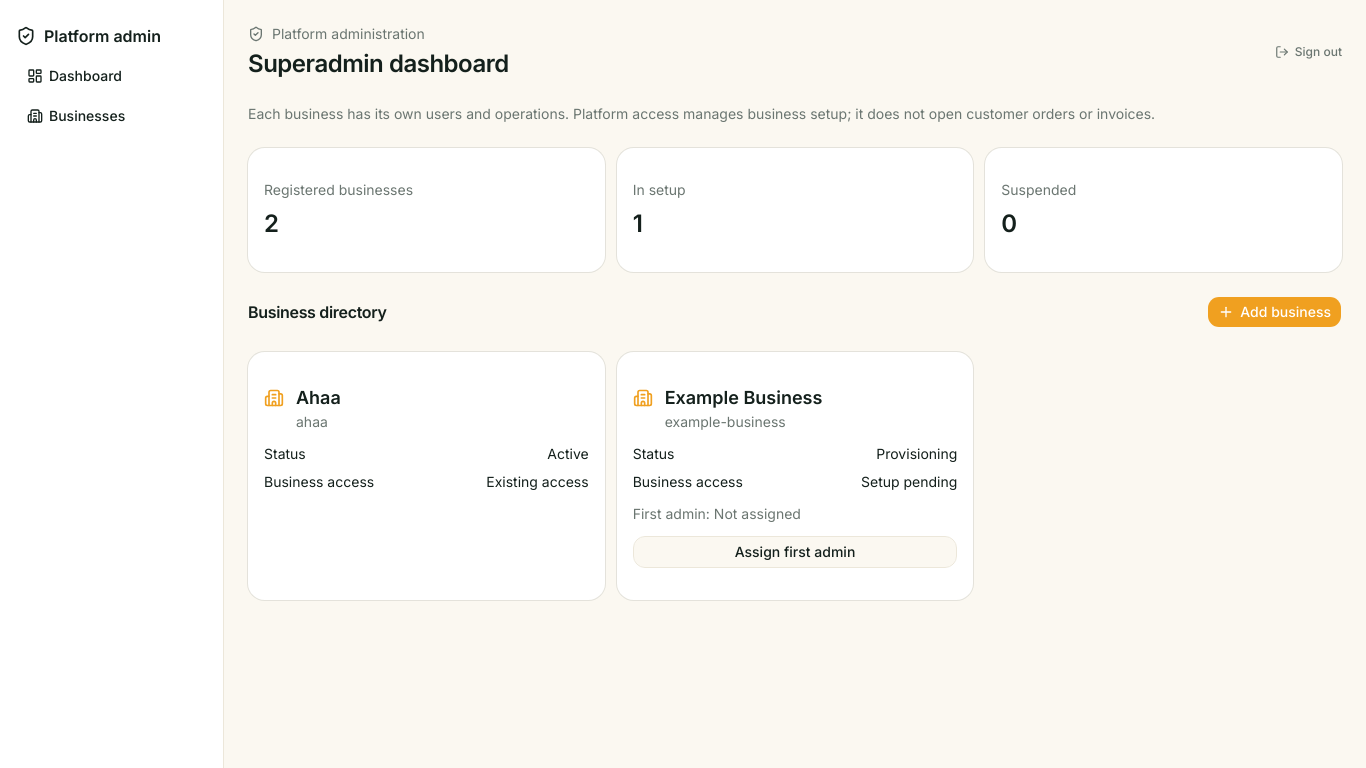
Test case: offers new-account setup only when separately enabled
Click the button "Assign first admin" at (795, 552), box [633,536,957,568]
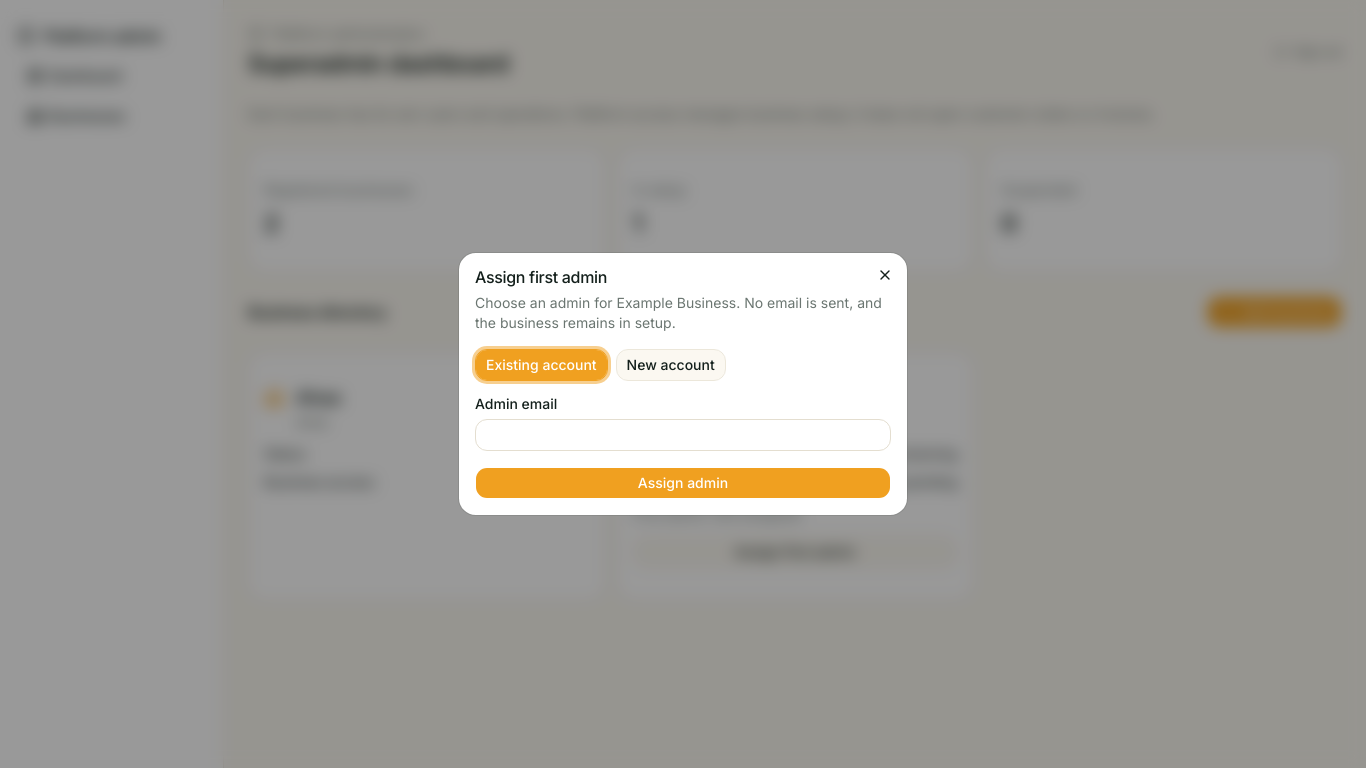
Click the button "New account" at (671, 365), box [616,349,726,381]
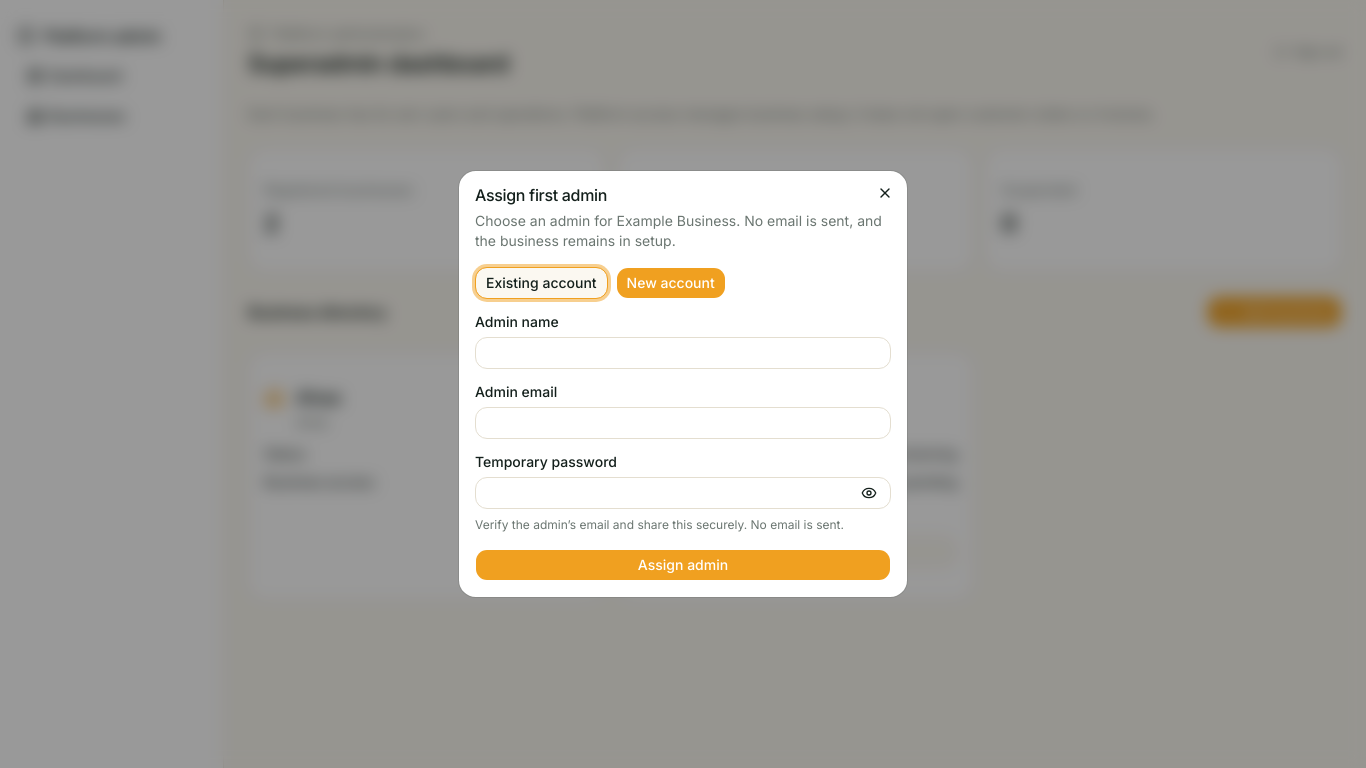
Type "Customer Admin" into the field labelled "Admin name" at (683, 353), box [475,337,891,369]
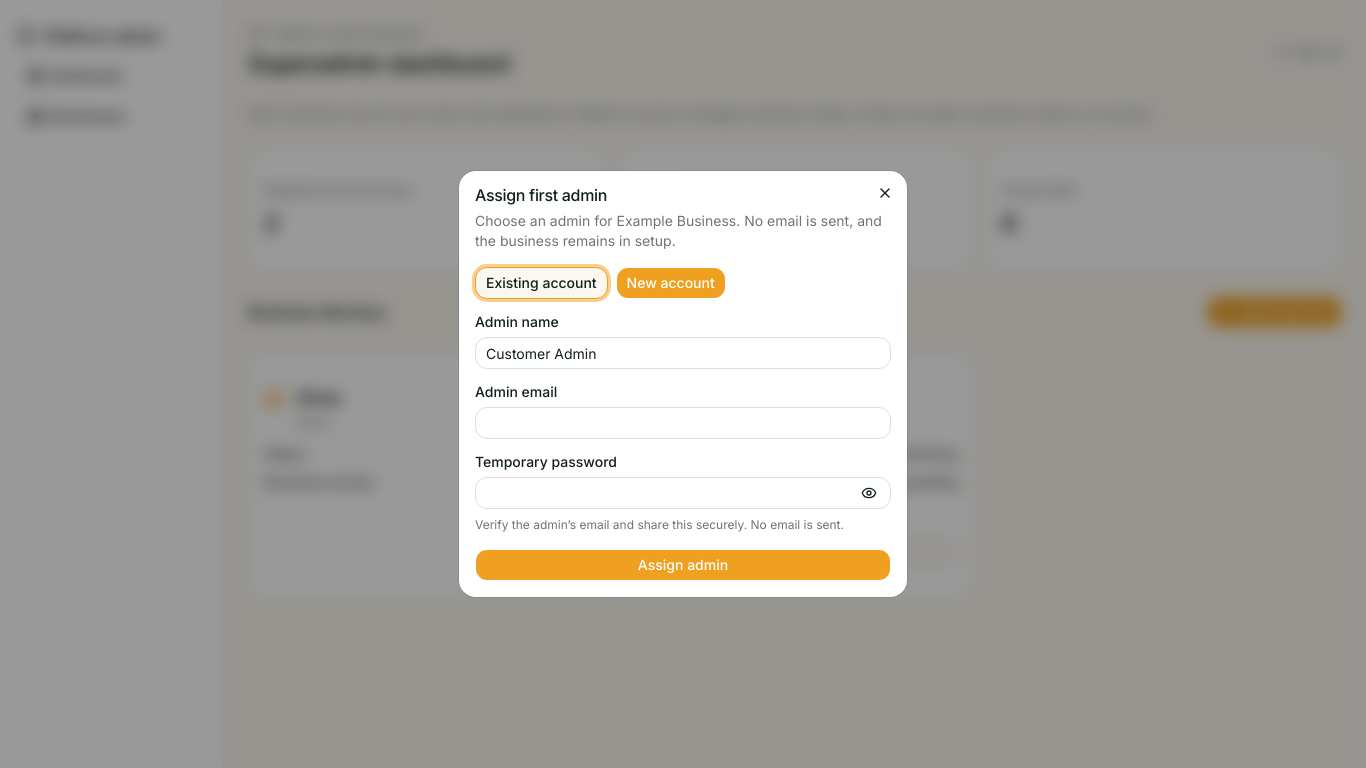
Type "owner@example.invalid" into the field labelled "Admin email" at (683, 423), box [475,407,891,439]
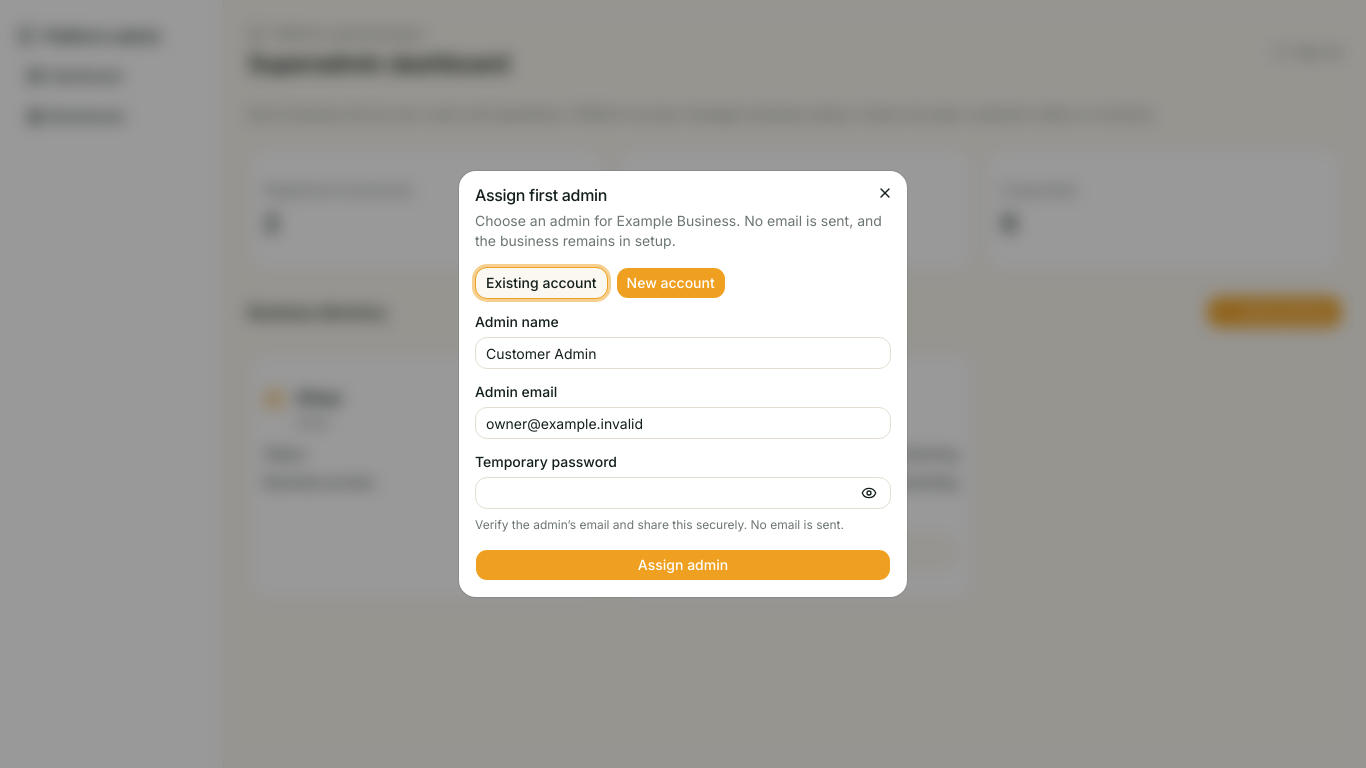
Type "temporary-pass-123" into the password field labelled "Temporary password" at (683, 493), box [475,477,891,509]
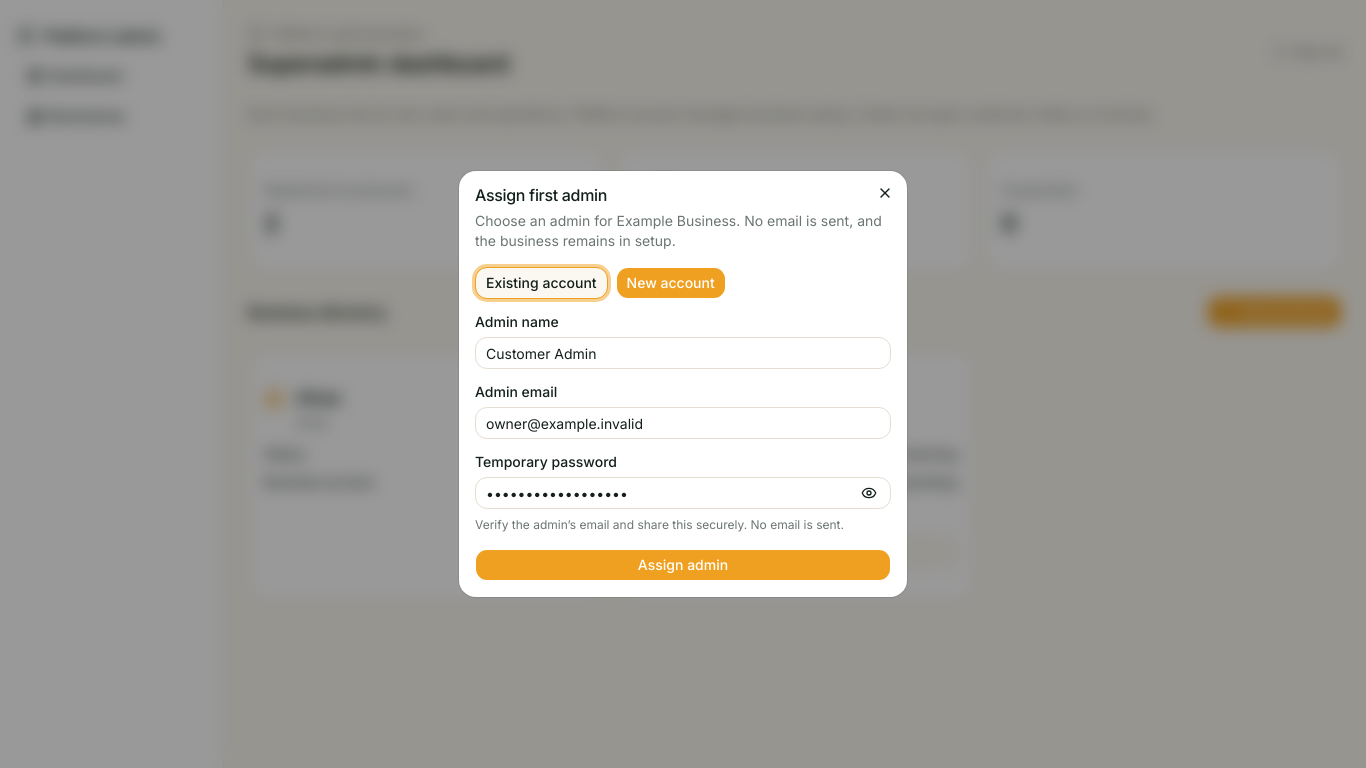
Click the button "Assign admin" at (683, 565), box [475,549,891,581]
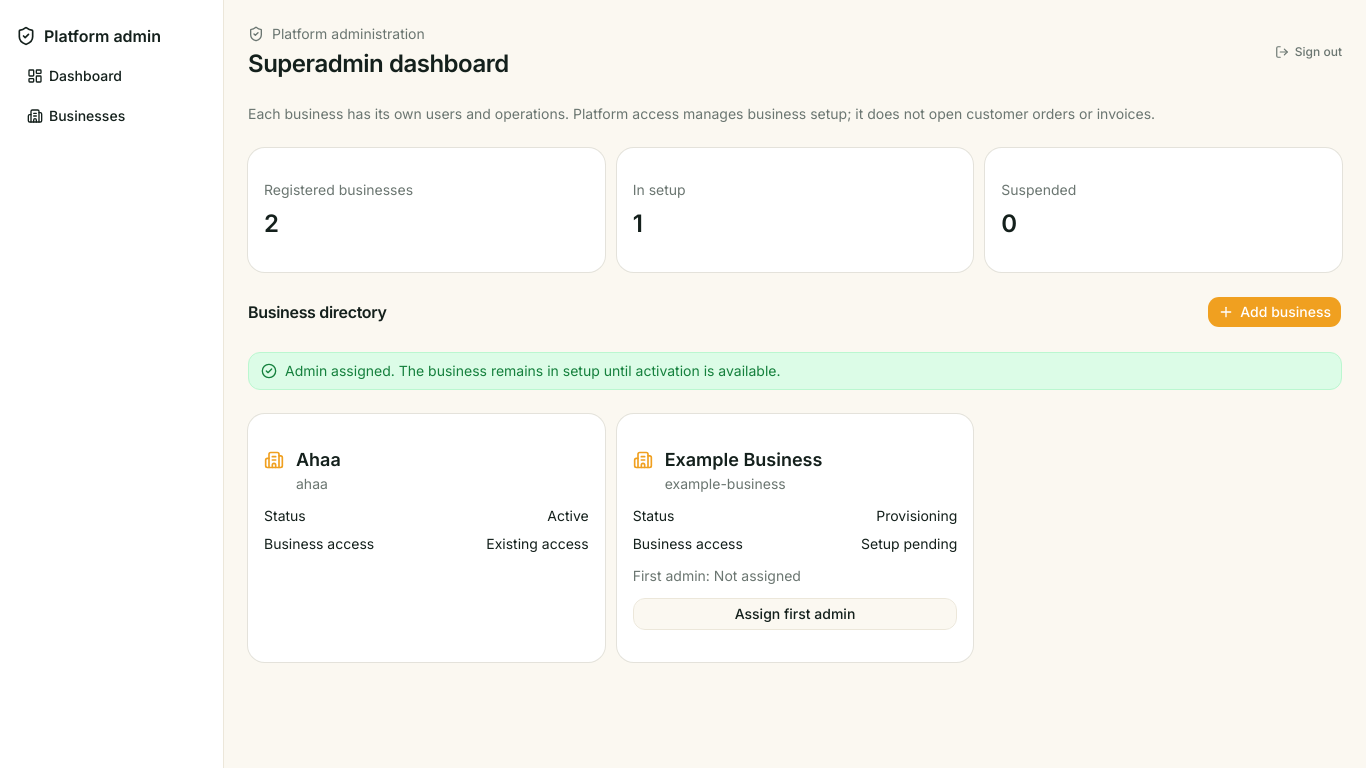
Expected: the text "Admin assigned. The business remains in setup" is shown, [285,362,780,379]
